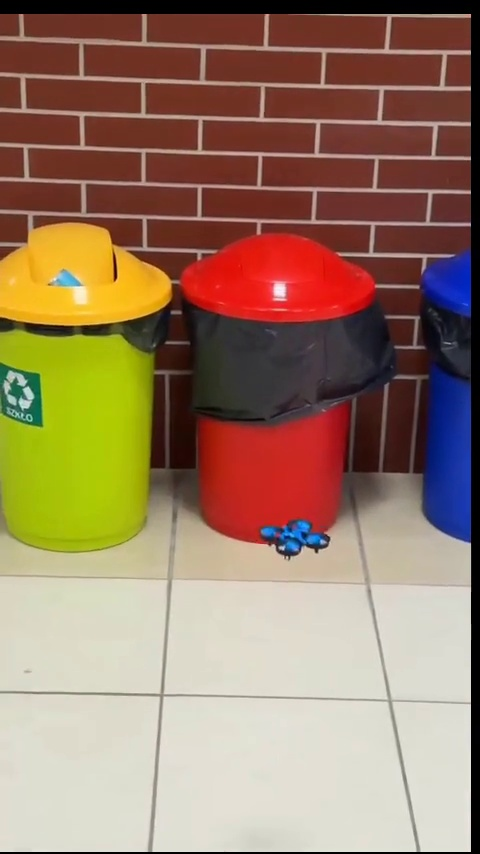drone: (260, 518, 331, 559)
